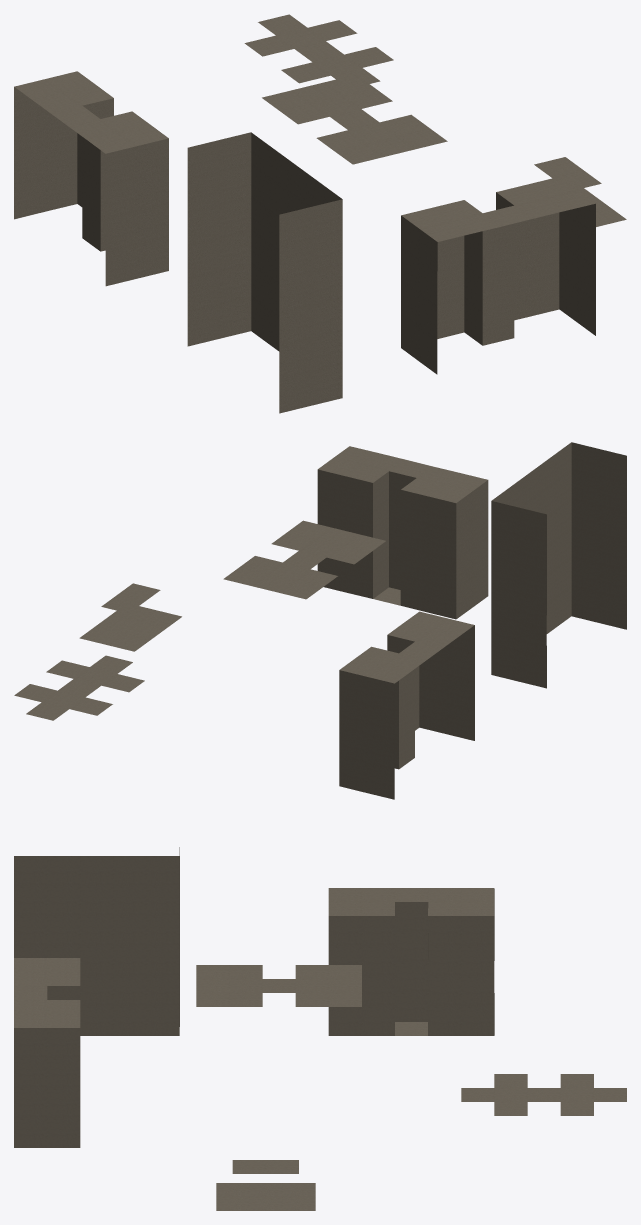
Rendered from SM_Wall_2.fbx.
The picture shows the model from 3 angles, top to bottom: view 1: azimuth 30°, elevation 25°; view 2: azimuth 150°, elevation 25°; view 3: azimuth 270°, elevation 25°; orthographic projection. The views are drawn at different scales.
Visible parts, largest first — view 1: SM_Wall_2; view 2: SM_Wall_2; view 3: SM_Wall_2.
Boxes of the visible parts, bbox=[...] form: SM_Wall_2: bbox=[14, 14, 626, 413]; SM_Wall_2: bbox=[14, 442, 626, 799]; SM_Wall_2: bbox=[14, 847, 626, 1210].
Bounding box in the file's own units: 29 × 12 × 37.01.
1 material, 1 textured.
